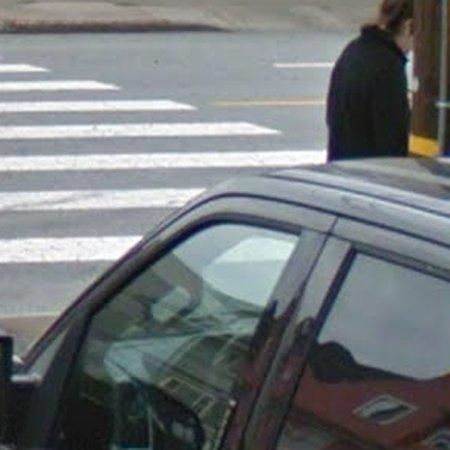crosswalks: (0, 59, 330, 320)
